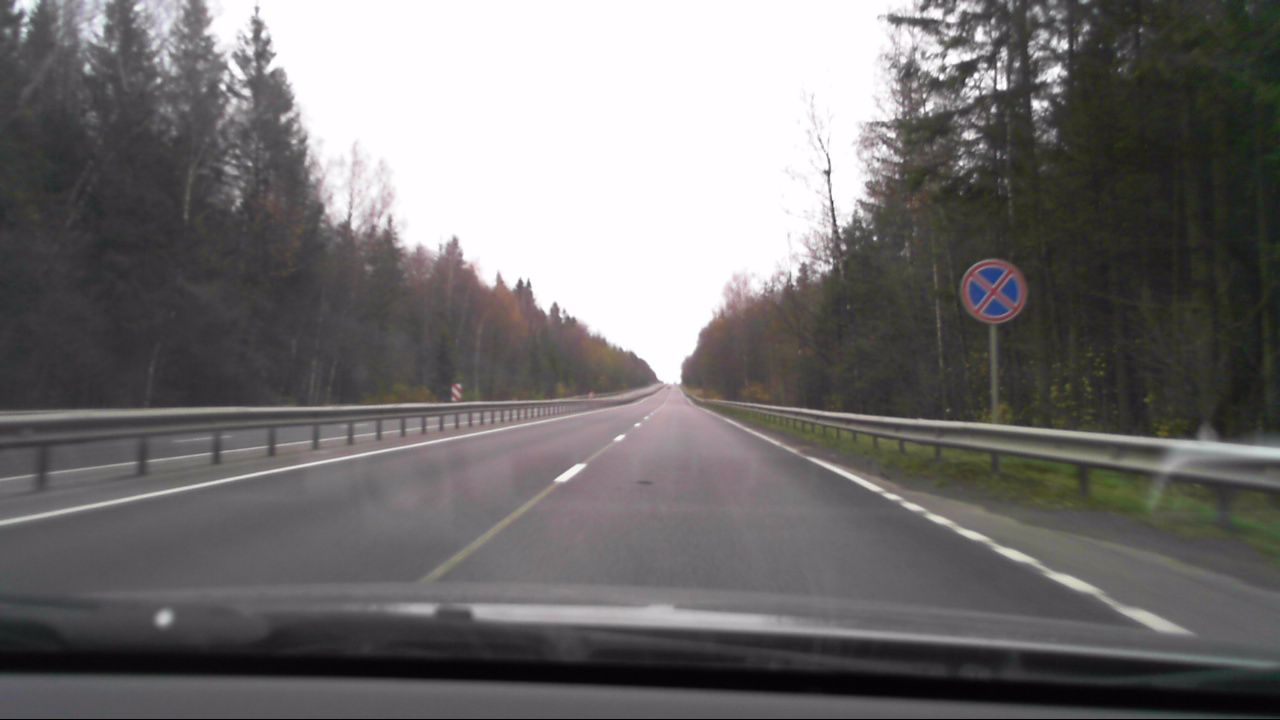No Parking: (957, 256, 1028, 327)
